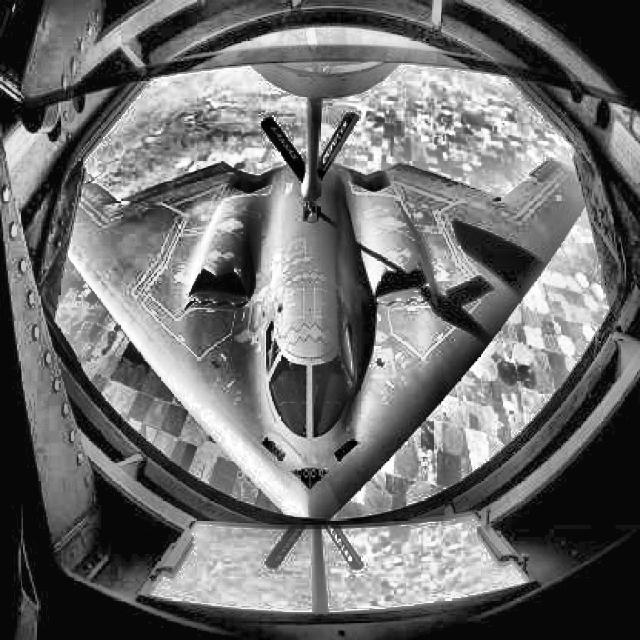B2: (67, 154, 585, 520)
